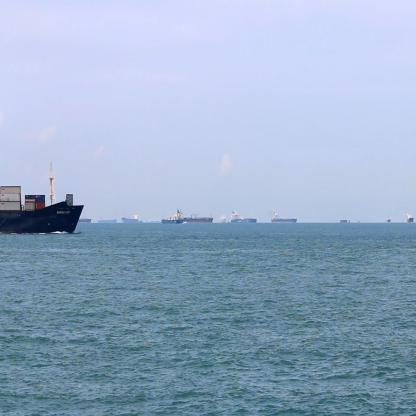Container Ship: (0, 158, 84, 235), (231, 206, 259, 224), (270, 209, 300, 224), (184, 212, 216, 223), (163, 209, 186, 224), (74, 209, 94, 226), (122, 212, 145, 224), (96, 216, 120, 226), (405, 207, 415, 227), (218, 210, 230, 226), (340, 214, 352, 228), (146, 218, 164, 226), (386, 212, 394, 224)
